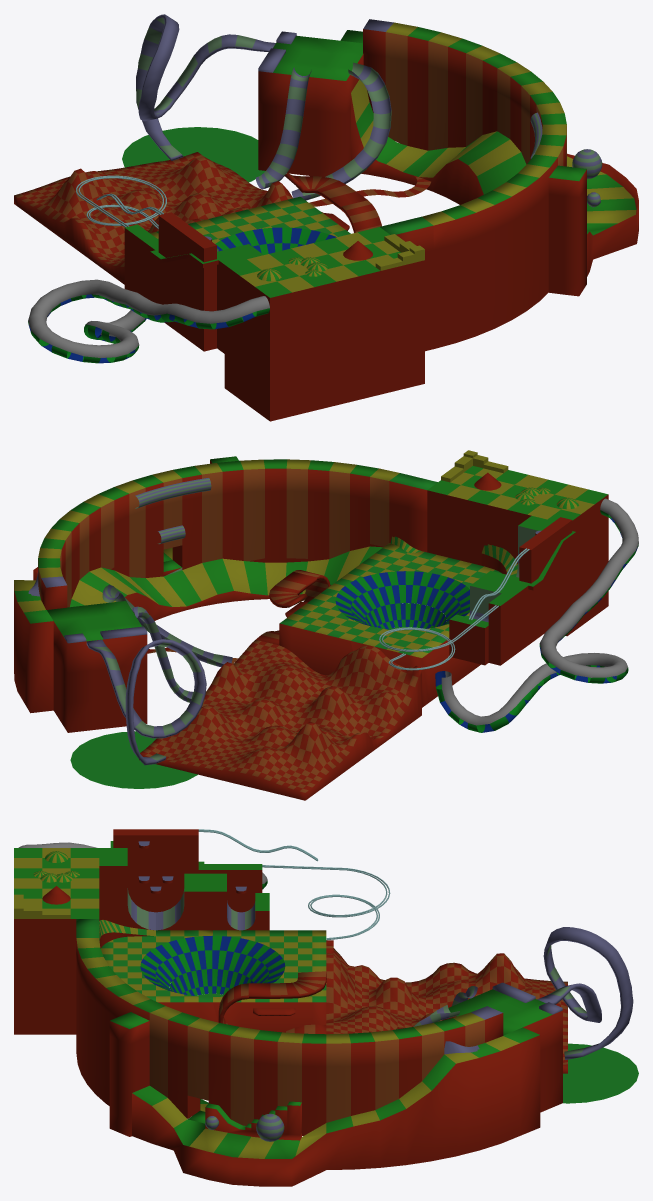
3 views of the same model, one above another, from view 1: azimuth 30°, elevation 25°; view 2: azimuth 150°, elevation 25°; view 3: azimuth 270°, elevation 25° (orthographic). The views are drawn at different scales.
Parts seen in each view (by area): view 1: object_0003D448, object_00032BEC, object_00022DFC, object_00044728; view 2: object_0003D448, object_00022DFC, object_00032BEC, object_00044728; view 3: object_0003D448, object_00022DFC, object_00032BEC.
Part boxes in pixels (x1,y1,x2,y2): object_0003D448: (255, 19, 638, 348); object_00032BEC: (76, 175, 424, 421); object_00022DFC: (14, 14, 433, 351); object_00044728: (28, 279, 269, 363); object_0003D448: (14, 456, 399, 732); object_00022DFC: (70, 473, 517, 800); object_00032BEC: (379, 450, 608, 670); object_00044728: (435, 498, 638, 732); object_0003D448: (76, 938, 562, 1186); object_00022DFC: (76, 919, 638, 1103); object_00032BEC: (14, 829, 390, 1034).
Bounding box in the file's own units: 2331 × 598 × 2200.
